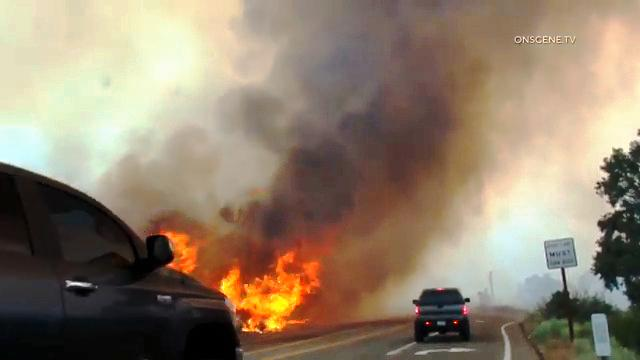fire: (208, 246, 325, 344), (159, 234, 212, 273)
smoke: (233, 16, 503, 195)
